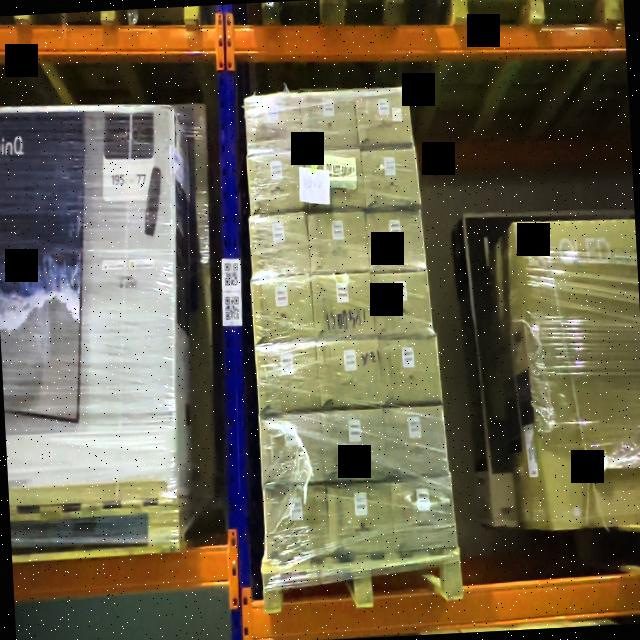box: (264, 490, 328, 558), (260, 416, 324, 482), (330, 484, 392, 552), (318, 342, 381, 407), (324, 410, 386, 476), (393, 480, 456, 544), (250, 277, 314, 339), (387, 408, 447, 474), (312, 278, 374, 340), (258, 348, 318, 412), (249, 212, 309, 274), (310, 210, 366, 276), (382, 342, 441, 404), (368, 210, 424, 272), (376, 272, 430, 334), (247, 153, 304, 210), (304, 151, 362, 206), (302, 91, 356, 149), (366, 150, 418, 203), (358, 92, 412, 143), (245, 98, 301, 146)
